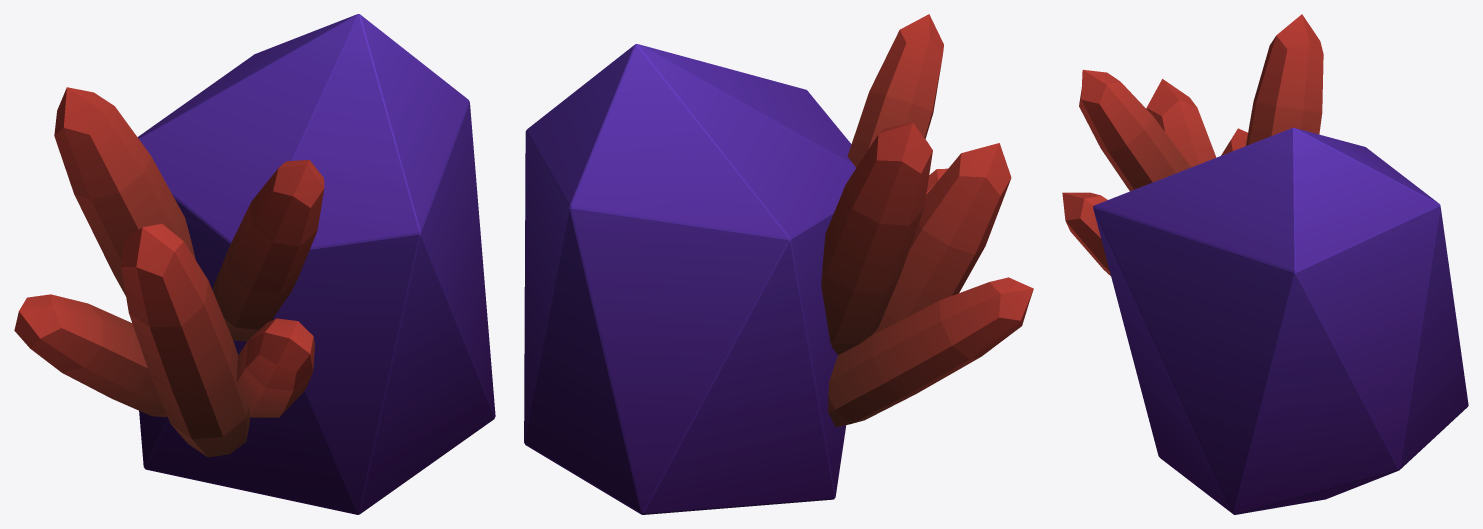
Rendered from anp_rock_2.fbx.
3 views of the same model, side by side, from view 1: azimuth 30°, elevation 25°; view 2: azimuth 150°, elevation 25°; view 3: azimuth 270°, elevation 25° (orthographic). The views are drawn at different scales.
Visible parts, largest first — view 1: rock2; view 2: rock2; view 3: rock2.
Part boxes in pixels (bbox=[...]): rock2: bbox=[14, 14, 495, 514]; rock2: bbox=[524, 14, 1033, 514]; rock2: bbox=[1062, 14, 1468, 514].
Bounding box in the file's own units: 71.61 × 64.06 × 60.9.
